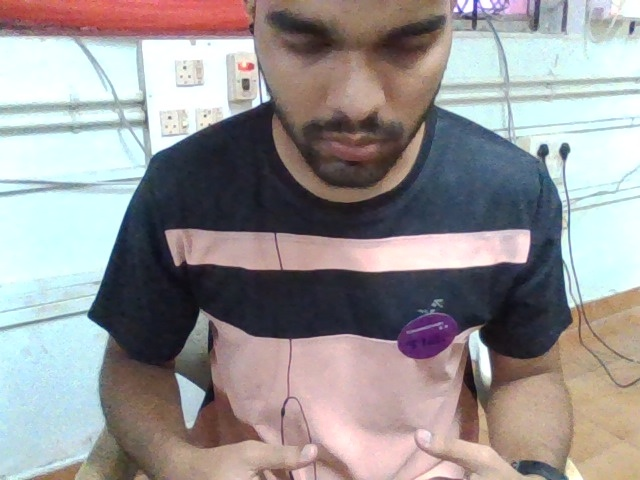hurt: (151, 379, 564, 480)
